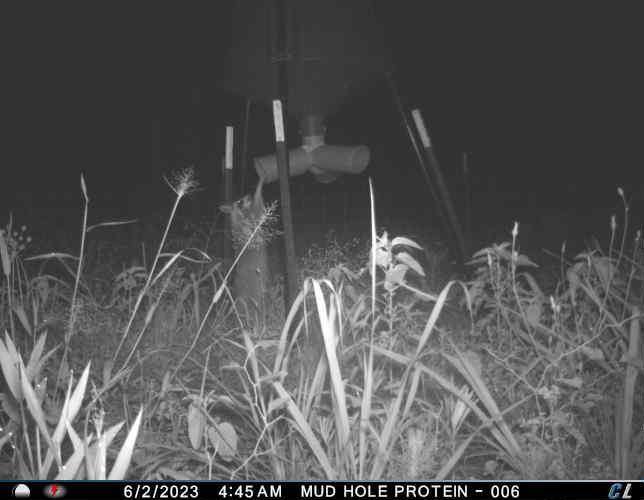Raccoon: (218, 178, 273, 301)
